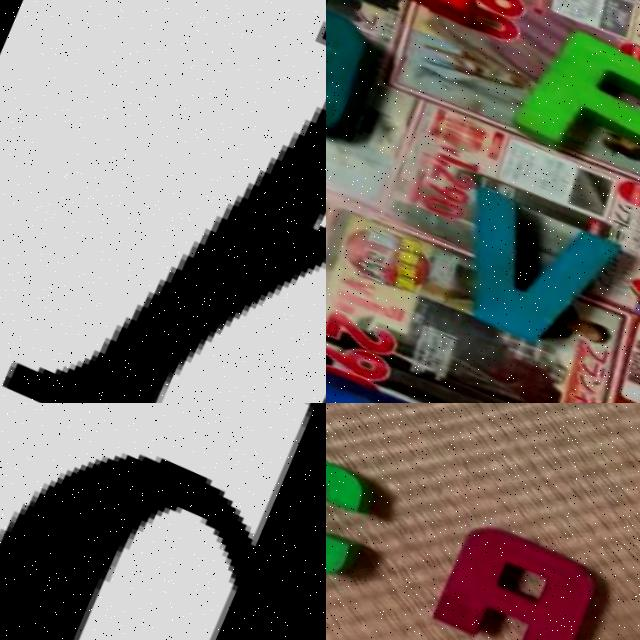A: (426, 520, 604, 640)
C: (326, 416, 390, 597)
D: (0, 403, 326, 640)
F: (508, 19, 640, 195)
H: (0, 105, 326, 403)
I: (336, 0, 530, 34)
V: (430, 185, 621, 363)
